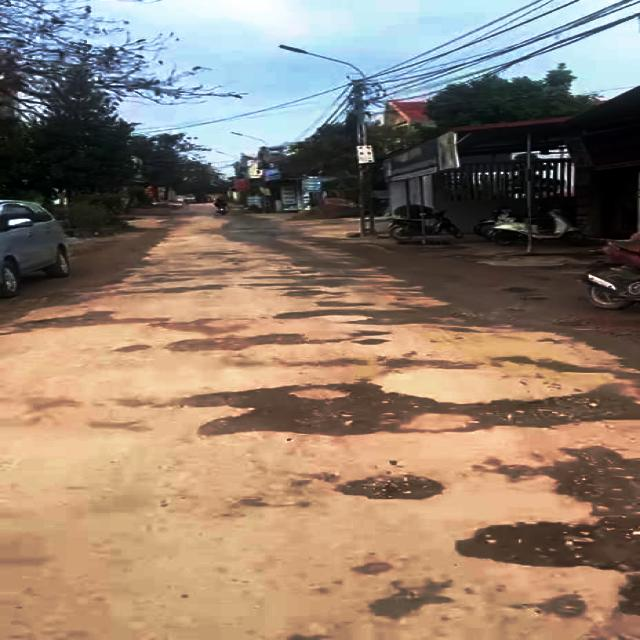pothole: (460, 443, 640, 575), (177, 381, 473, 441), (473, 383, 640, 432), (262, 299, 510, 330), (330, 469, 451, 502), (546, 312, 640, 346), (164, 333, 319, 351), (9, 312, 154, 324), (499, 282, 546, 302), (150, 284, 232, 295), (274, 287, 340, 298)
